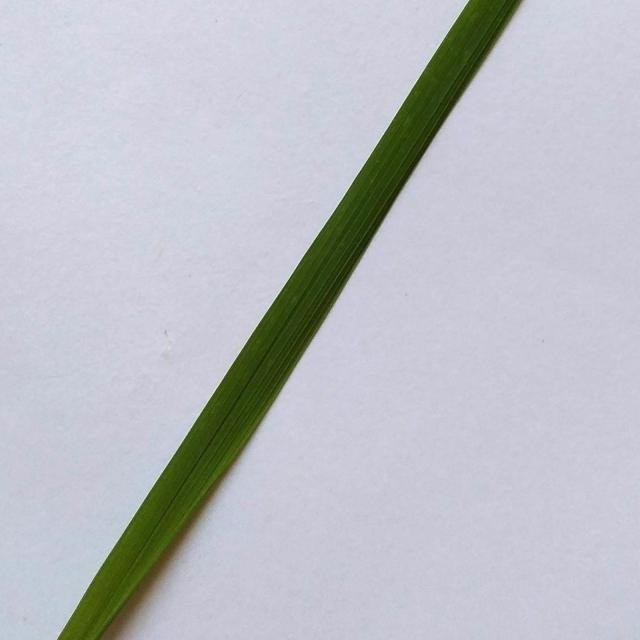healthy: (49, 0, 531, 640)
